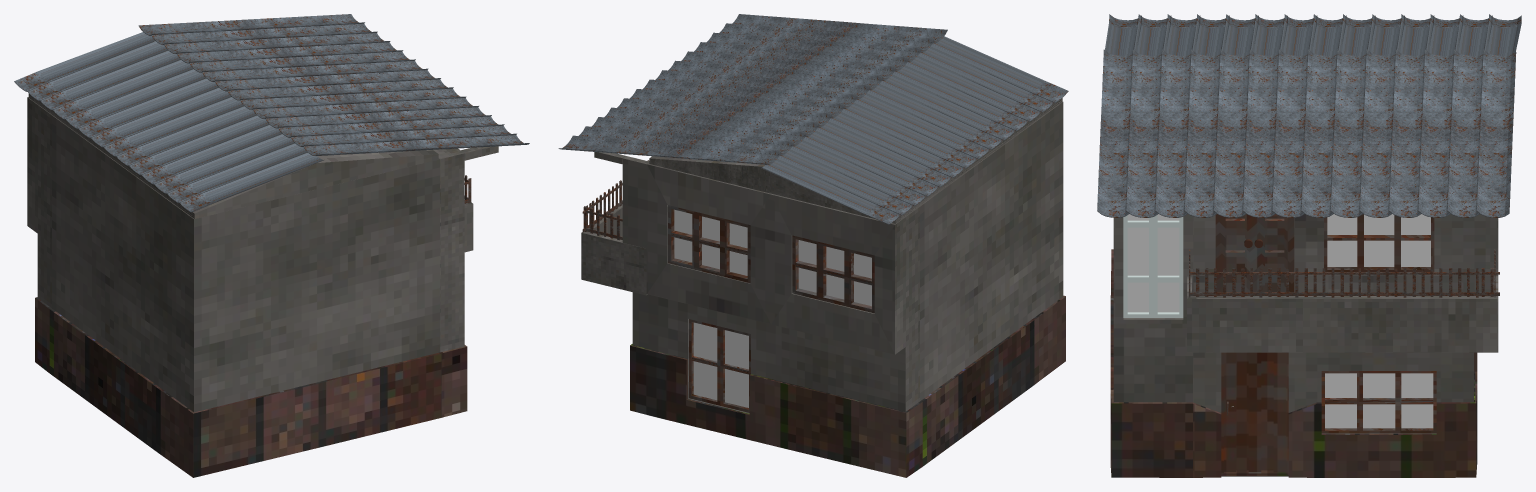
Rendered from CASA001.fbx.
3 renders of one model, left to right at view 1: azimuth 30°, elevation 25°; view 2: azimuth 150°, elevation 25°; view 3: azimuth 270°, elevation 25°, orthographic. The views are drawn at different scales.
Visible parts, largest first — view 1: Casa, TEJAS, Casa.001, Cubo; view 2: Casa, TEJAS, Casa.001, VENTANAS DE VIDRIO, VENTANAS005, Cubo, Balcon, VENTANA003.001, Rejas 002; view 3: TEJAS, Casa, Casa.001, Balcon, VENTANAS DE VIDRIO, PUERTA, Puerta2, Rejas 002, Ventana001, VENTANA003, VENTANA002.
Boxes of the visible parts, <box> form: Casa: <box>27,97,498,412</box>; TEJAS: <box>14,14,529,212</box>; Casa.001: <box>35,297,467,477</box>; Cubo: <box>28,51,438,218</box>; Casa: <box>594,101,1063,413</box>; TEJAS: <box>558,14,1068,224</box>; Casa.001: <box>630,295,1065,477</box>; VENTANAS DE VIDRIO: <box>674,209,871,407</box>; VENTANAS005: <box>668,205,874,313</box>; Cubo: <box>649,98,1062,223</box>; Balcon: <box>581,204,647,295</box>; VENTANA003.001: <box>689,319,750,412</box>; Rejas 002: <box>582,160,648,240</box>; TEJAS: <box>1097,14,1521,217</box>; Casa: <box>1113,214,1498,476</box>; Casa.001: <box>1110,249,1477,477</box>; Balcon: <box>1187,276,1498,352</box>; VENTANAS DE VIDRIO: <box>1127,214,1433,428</box>; PUERTA: <box>1221,352,1288,474</box>; Puerta2: <box>1215,214,1294,292</box>; Rejas 002: <box>1189,249,1499,297</box>; Ventana001: <box>1123,215,1183,317</box>; VENTANA003: <box>1321,371,1436,433</box>; VENTANA002: <box>1324,214,1434,271</box>.
Size of the model in its own units: 2706 by 2304 by 2594.
